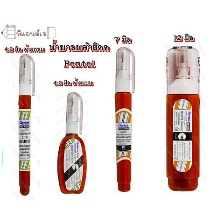correction_fluid: (163, 42, 202, 193), (112, 45, 137, 194), (54, 90, 89, 196), (15, 52, 36, 197)
